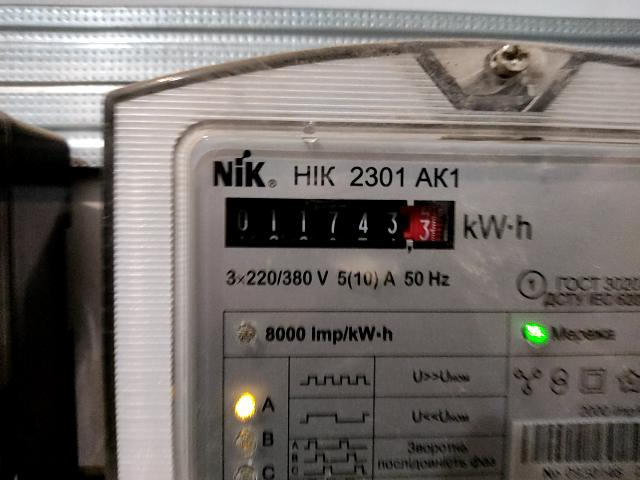0: (236, 206, 250, 234)
1: (297, 206, 309, 234), (268, 206, 278, 233)
3: (386, 209, 400, 236), (417, 218, 431, 243)
4: (356, 209, 370, 236)
7: (326, 206, 341, 234)
screen: (214, 187, 467, 261)
